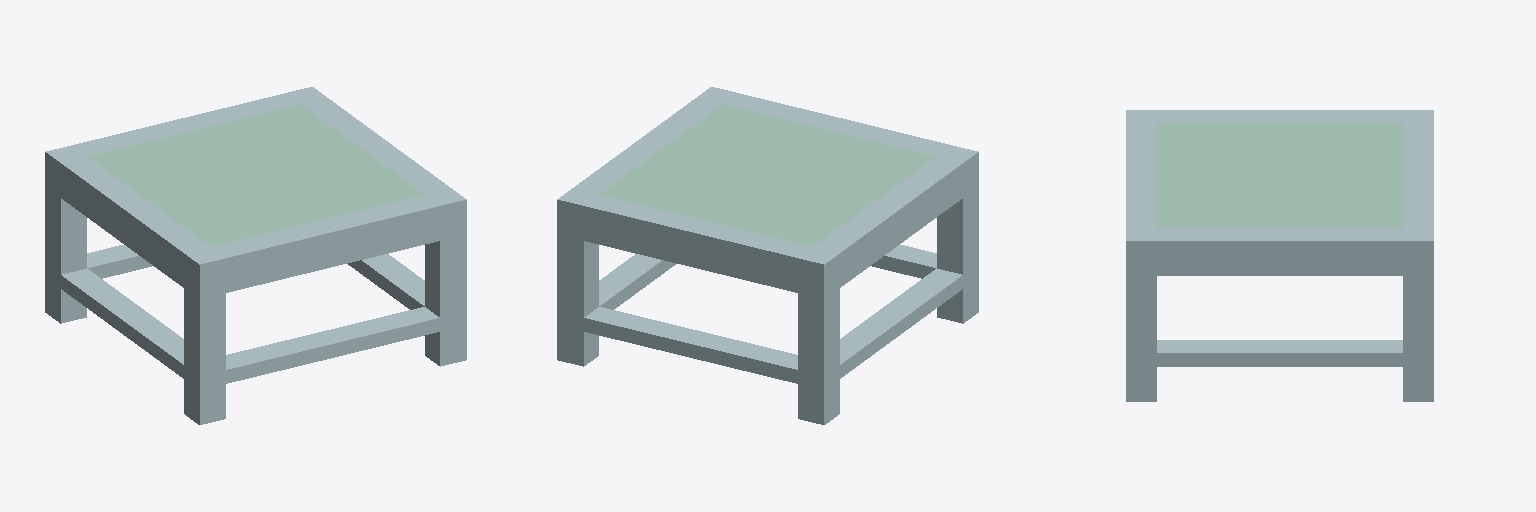
3 renders of one model, left to right at view 1: azimuth 30°, elevation 25°; view 2: azimuth 150°, elevation 25°; view 3: azimuth 270°, elevation 25°, orthographic.
Visible parts, largest first — view 1: tableCoffeeGlassSquare; view 2: tableCoffeeGlassSquare; view 3: tableCoffeeGlassSquare.
Part boxes in pixels (x1,y1,x2,y2): tableCoffeeGlassSquare: (45, 87, 466, 424); tableCoffeeGlassSquare: (557, 87, 978, 424); tableCoffeeGlassSquare: (1126, 110, 1433, 401).
Size of the model in its own units: 1 by 0.575 by 1.